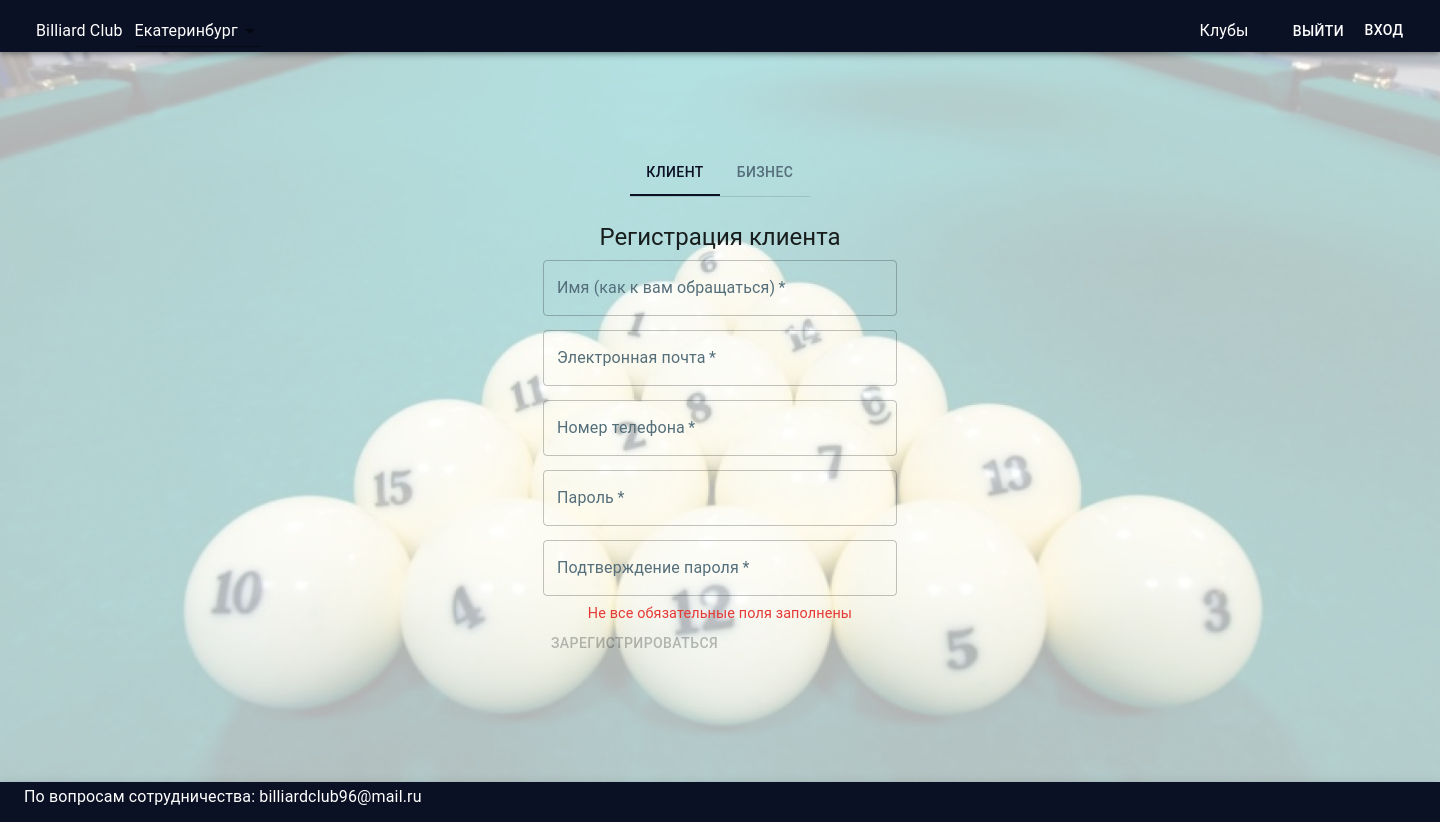
it: Register tests › Client register tests › Prints confirmation message
Type "1" into the password field with test id "password-confirm-input" at coordinates (720, 568), box x1=543 y1=540 x2=897 y2=596
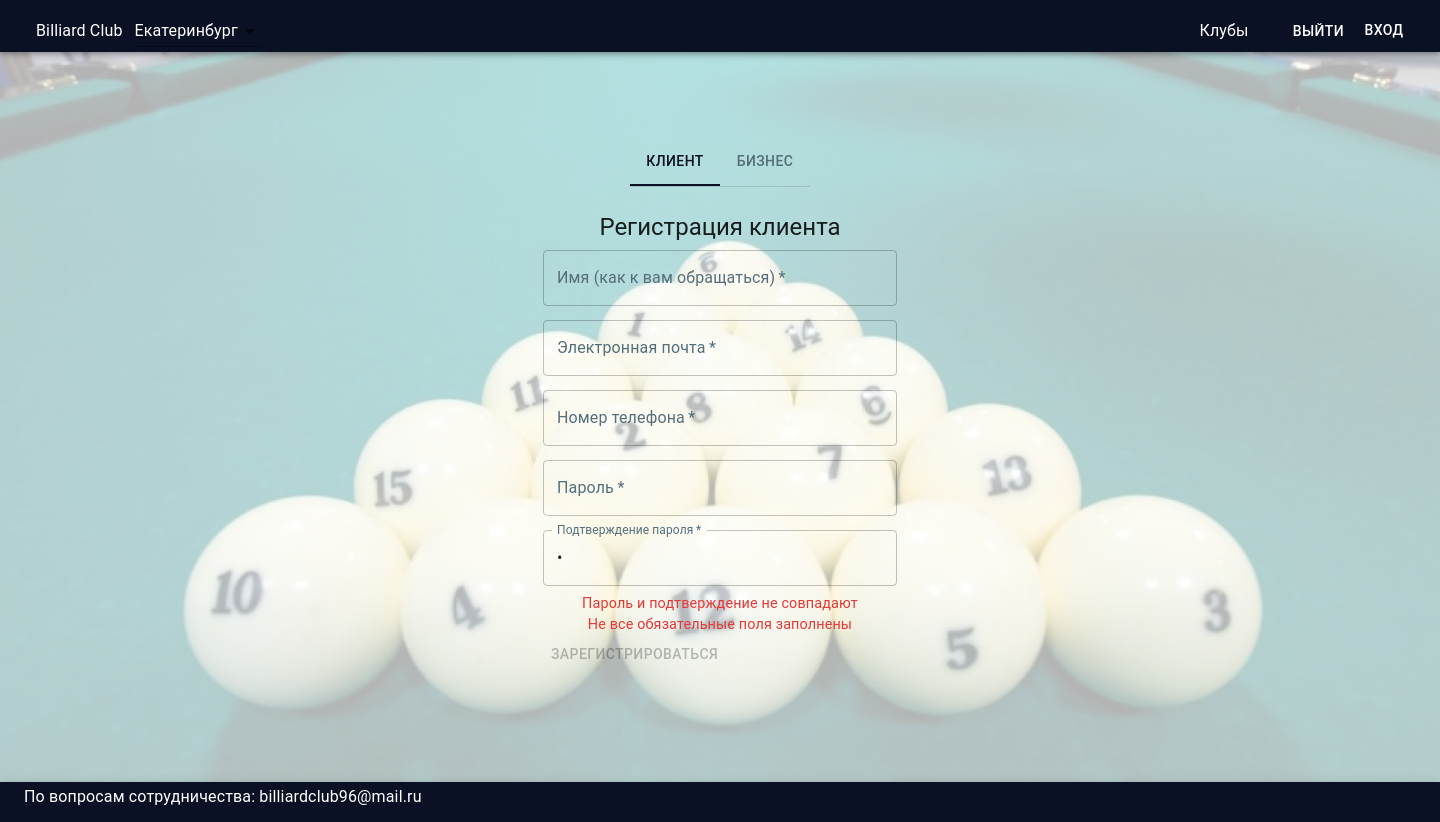
Expected: the text "Пароль и подтверждение не совпадают" is shown, x1=582 y1=595 x2=858 y2=612
